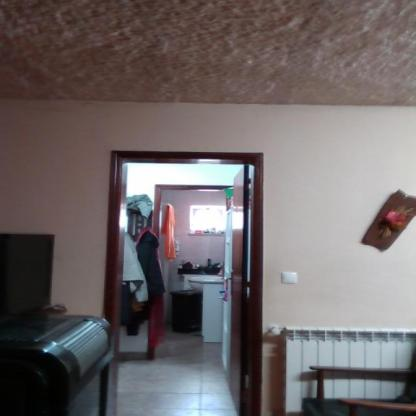door: (96, 142, 272, 415)
